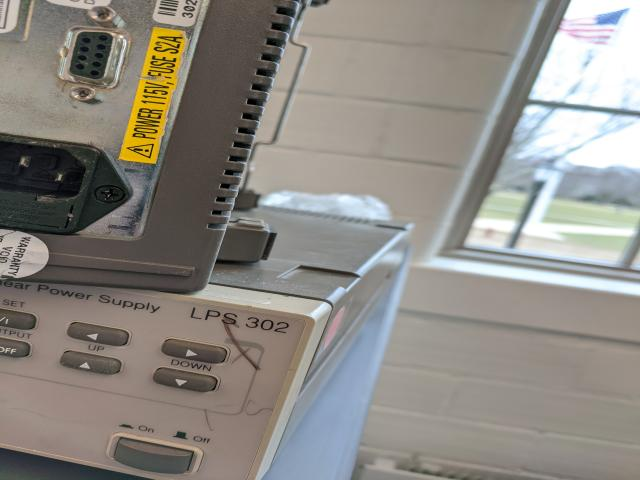CRS: (95, 185, 125, 205)
